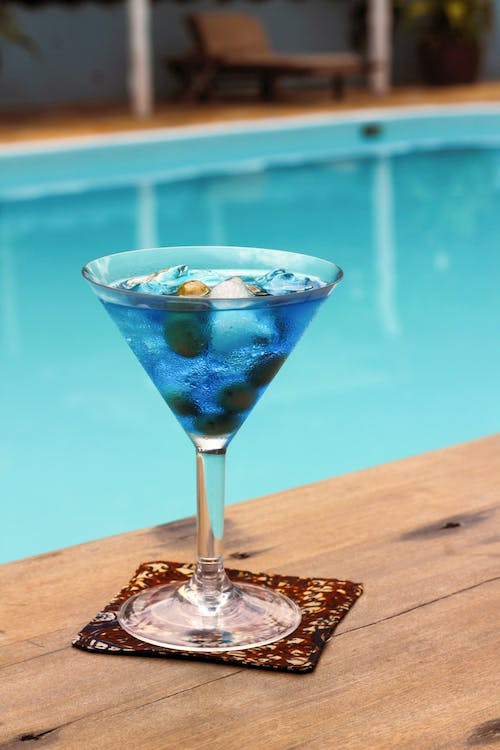alcohol: (80, 243, 345, 653)
